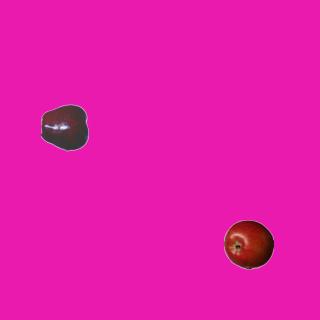Apple Braeburn: (223, 219, 273, 269)
Apple Red Delicious: (40, 102, 90, 152)
